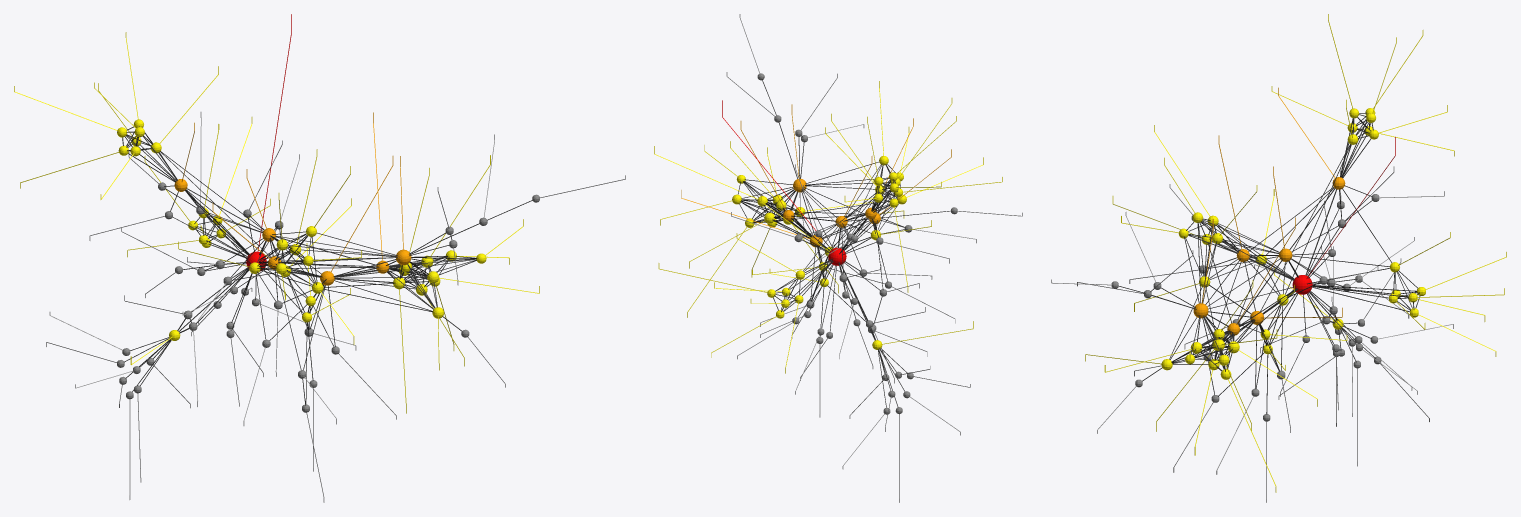
Rendered from node_edges.obj.
The picture shows the model from 3 angles, left to right: view 1: azimuth 30°, elevation 25°; view 2: azimuth 150°, elevation 25°; view 3: azimuth 270°, elevation 25°; orthographic projection. The views are drawn at different scales.
Size of the model in its own units: 1171 by 1195 by 1130.
